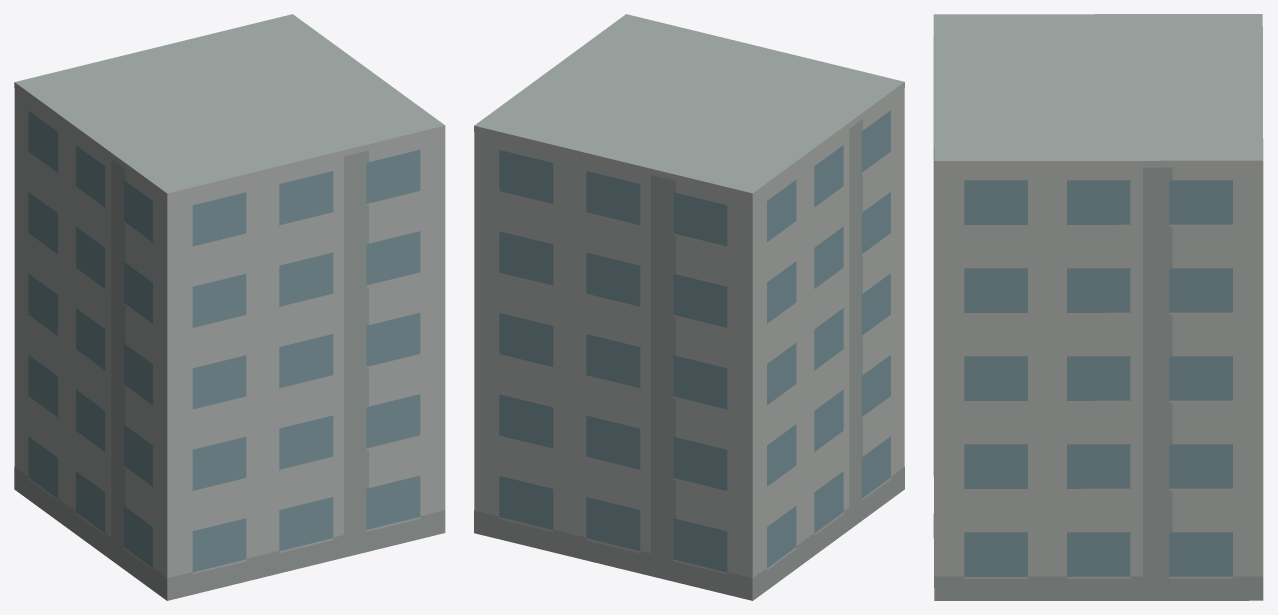
Rendered from survey-upis-32977190.glb.
The picture shows the model from 3 angles, left to right: view 1: azimuth 30°, elevation 25°; view 2: azimuth 150°, elevation 25°; view 3: azimuth 270°, elevation 25°; orthographic projection. The views are drawn at different scales.
Visible parts, largest first — view 1: survey-upis-32977190.tmp; view 2: survey-upis-32977190.tmp; view 3: survey-upis-32977190.tmp.
Boxes of the visible parts, x1,y1,x2,y2 form: survey-upis-32977190.tmp: [14, 14, 445, 600]; survey-upis-32977190.tmp: [474, 14, 904, 600]; survey-upis-32977190.tmp: [933, 14, 1263, 600].
Bounding box in the file's own units: 11.34 × 15.8 × 10.75.
